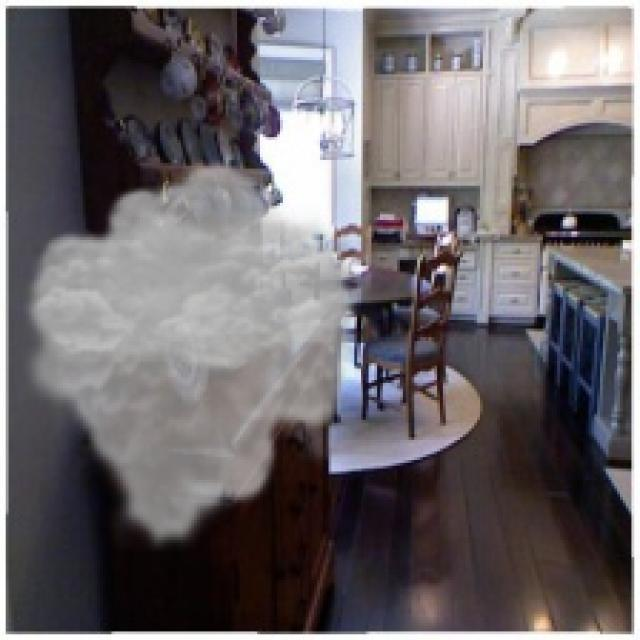Smoke: (17, 157, 366, 552)
